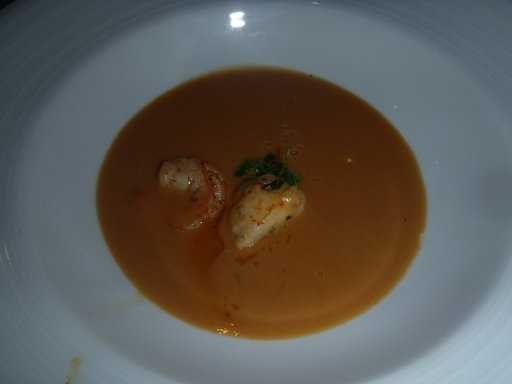soup: (55, 67, 445, 332)
